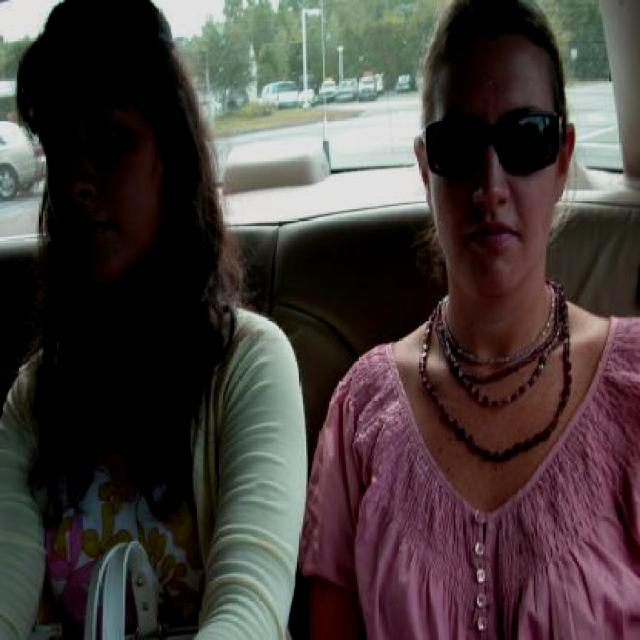face_nomask: (427, 102, 565, 272), (40, 99, 157, 272)
glasses: (436, 119, 552, 172)
head_nohelmet: (0, 0, 196, 71), (409, 0, 582, 77)
person: (318, 0, 640, 640), (0, 0, 319, 640)
